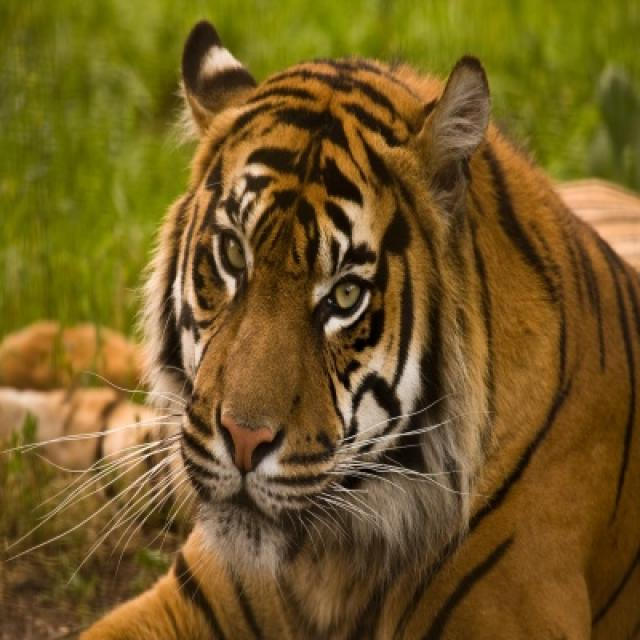Tiger: (80, 21, 638, 638)
